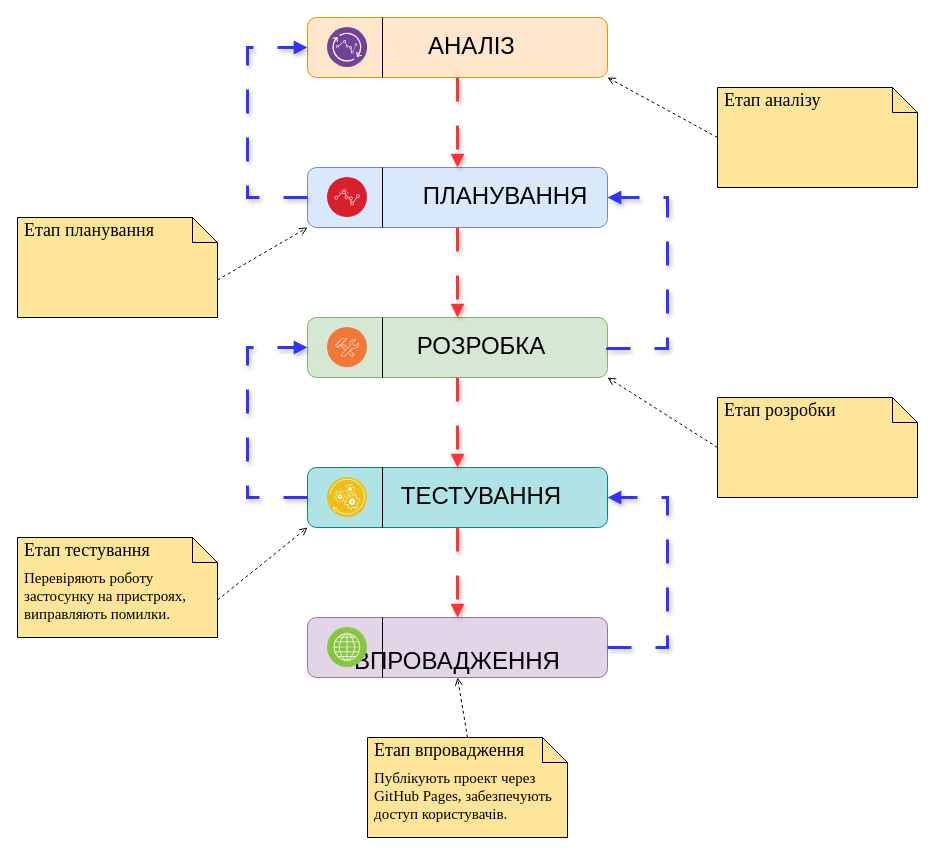
Some shapes in this 935 by 855 pixel diagram are drawn without their labels. The shapes that lost their labels are listed below. From the top down, each one's centre as x and y in pixels, then its label:
At point 817,137: "Визначають вимоги та мету застосунку, аналізують ідею та цільову аудиторію.".
At point 117,267: "Обирають модель розробки та пишуть функціональну специфікацію.".
At point 817,447: "Пишуть код інтерфейсу та функціональність (навігація).".
